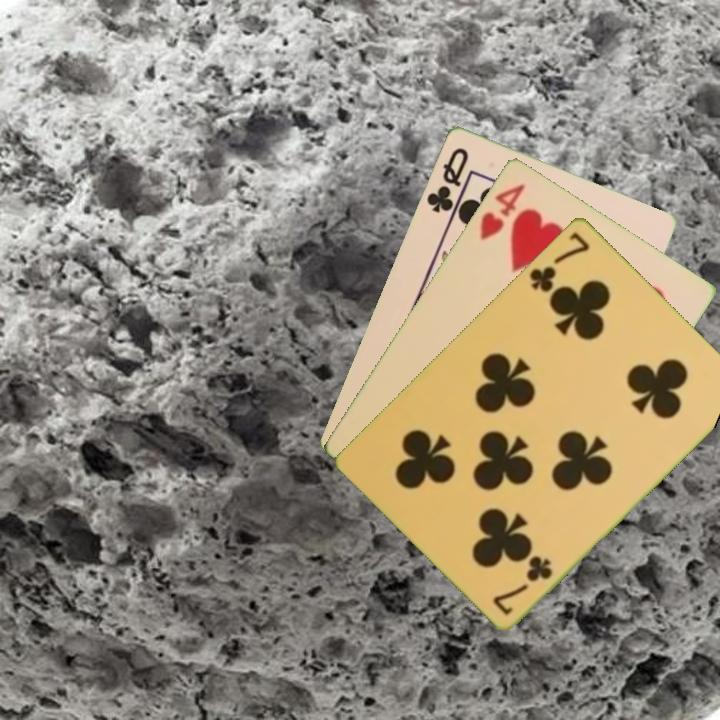4h: (476, 179, 528, 243)
7c: (525, 228, 593, 295), (489, 551, 555, 618)
Qc: (422, 143, 472, 215)
